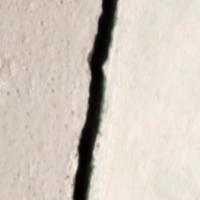crack: (54, 0, 134, 199)
